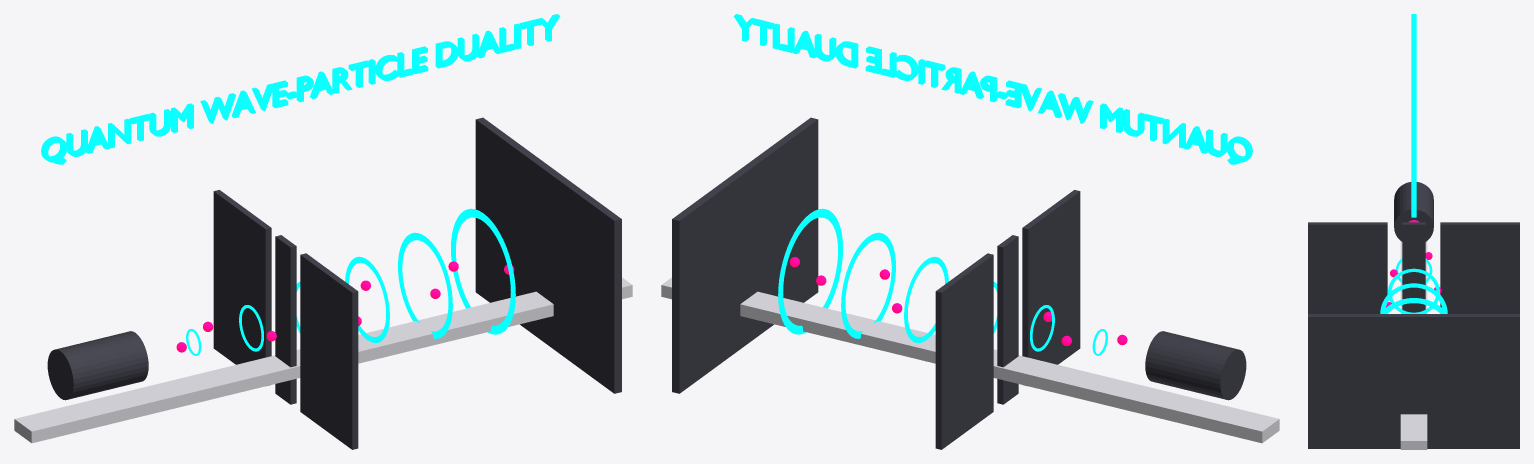
File: wave_particle.glb
3 renders of one model, left to right at view 1: azimuth 30°, elevation 25°; view 2: azimuth 150°, elevation 25°; view 3: azimuth 270°, elevation 25°, orthographic. The views are drawn at different scales.
Parts seen in each view (by area): view 1: Cube.003, Optical_Bench_Rail, Cube.001, Text, Cube, Coherent_Laser_Housing, Cube.002, Light_Wavefront_6, Light_Wavefront_5, Light_Wavefront_4; view 2: Cube.003, Optical_Bench_Rail, Cube, Text, Cube.001, Coherent_Laser_Housing, Cube.002, Light_Wavefront_6, Light_Wavefront_5, Light_Wavefront_4; view 3: Cube.003, Cube, Cube.001, Cube.002, Coherent_Laser_Housing, Optical_Bench_Rail, Text, Light_Wavefront_3, Light_Wavefront_4, Light_Wavefront_5.
Part boxes in pixels (x1,y1,x2,y2): Cube.003: [475, 117, 621, 393]; Optical_Bench_Rail: [14, 277, 632, 443]; Cube.001: [300, 253, 358, 449]; Text: [41, 14, 560, 164]; Cube: [213, 190, 271, 386]; Coherent_Laser_Housing: [47, 331, 148, 400]; Cube.002: [275, 235, 296, 404]; Light_Wavefront_6: [451, 208, 515, 334]; Light_Wavefront_5: [398, 232, 452, 338]; Light_Wavefront_4: [345, 256, 389, 342]; Cube.003: [672, 117, 818, 393]; Optical_Bench_Rail: [661, 277, 1279, 443]; Cube: [935, 253, 993, 449]; Text: [733, 14, 1252, 164]; Cube.001: [1022, 190, 1080, 386]; Coherent_Laser_Housing: [1145, 331, 1246, 400]; Cube.002: [997, 235, 1018, 404]; Light_Wavefront_6: [778, 208, 842, 334]; Light_Wavefront_5: [841, 232, 895, 338]; Light_Wavefront_4: [904, 256, 948, 342]; Cube.003: [1308, 314, 1519, 448]; Cube: [1440, 222, 1519, 313]; Cube.001: [1308, 222, 1387, 313]; Cube.002: [1402, 222, 1425, 312]; Coherent_Laser_Housing: [1394, 182, 1433, 241]; Optical_Bench_Rail: [1400, 241, 1427, 449]; Text: [1411, 14, 1416, 217]; Light_Wavefront_3: [1388, 268, 1439, 313]; Light_Wavefront_4: [1380, 283, 1447, 312]; Light_Wavefront_5: [1380, 298, 1447, 313].
Size of the model in its own units: 16 by 8.27 by 6.4.
